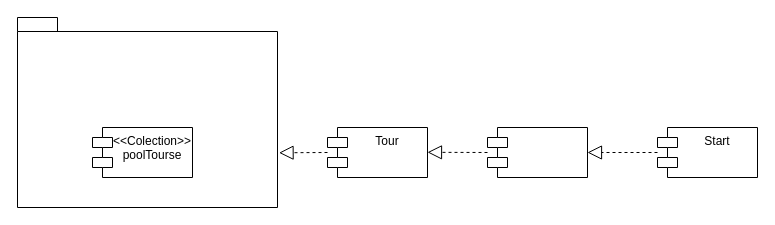
This 775x225 diagram has some shape labels left out. Here are the shapes that lost their labels. From the top down, the box of each, then its label:
(16, 16, 278, 208): TravalAgent
(486, 126, 588, 178): Client
